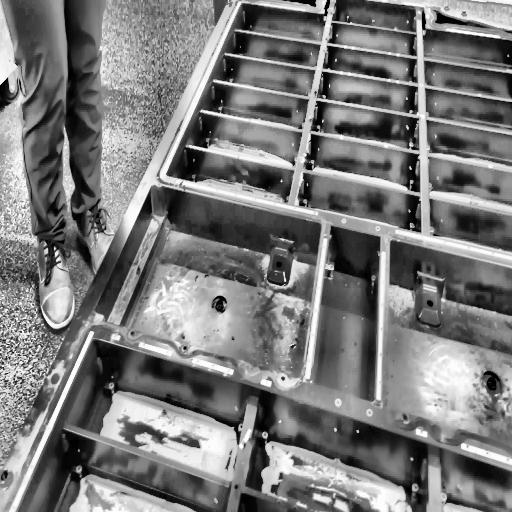b_casing: (0, 0, 512, 509)
